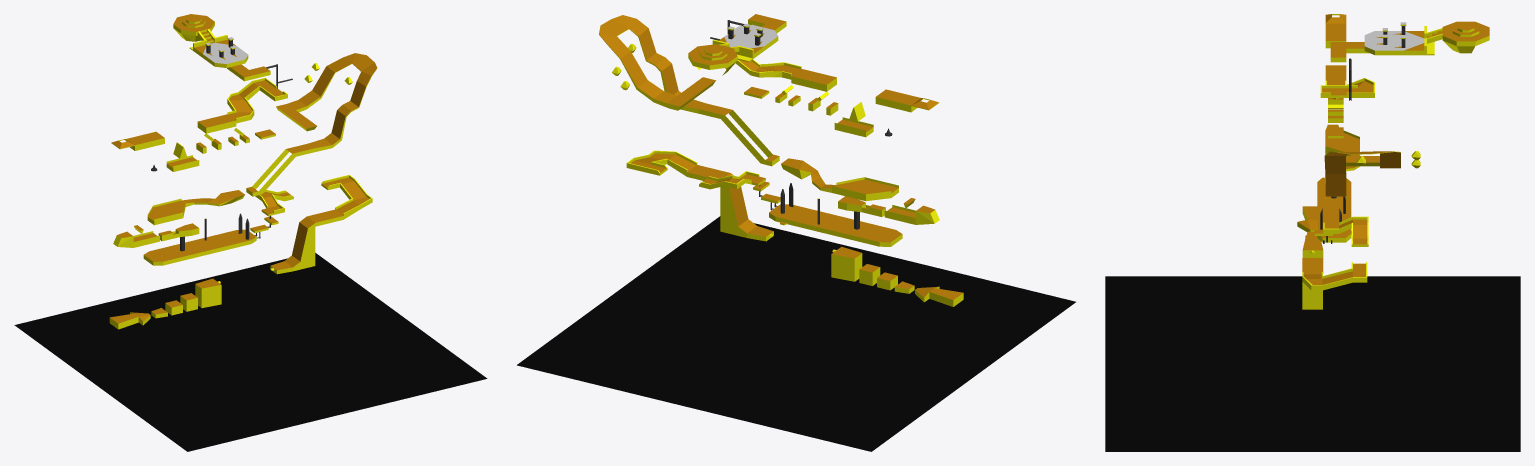
File: bits_segment7.0x16E18.collision.obj
3 renders of one model, left to right at view 1: azimuth 30°, elevation 25°; view 2: azimuth 150°, elevation 25°; view 3: azimuth 270°, elevation 25°, orthographic. The views are drawn at different scales.
Parts seen in each view (by area): view 1: bits_segment7_16E18_deathfloor, bits_segment7_16E18_climbable, bits_segment7_16E18_normal, bits_segment7_16E18_windy, bits_segment7_16E18_fence; view 2: bits_segment7_16E18_deathfloor, bits_segment7_16E18_climbable, bits_segment7_16E18_normal, bits_segment7_16E18_windy, bits_segment7_16E18_fence; view 3: bits_segment7_16E18_deathfloor, bits_segment7_16E18_climbable, bits_segment7_16E18_normal, bits_segment7_16E18_windy, bits_segment7_16E18_fence.
Boxes of the visible parts, box(x1,y1,x2,y2) form: bits_segment7_16E18_deathfloor: box(14, 253, 487, 451); bits_segment7_16E18_climbable: box(110, 14, 377, 323); bits_segment7_16E18_normal: box(109, 19, 376, 329); bits_segment7_16E18_windy: box(203, 37, 248, 63); bits_segment7_16E18_fence: box(151, 40, 292, 251); bits_segment7_16E18_deathfloor: box(517, 216, 1075, 451); bits_segment7_16E18_climbable: box(599, 14, 963, 299); bits_segment7_16E18_normal: box(599, 19, 963, 306); bits_segment7_16E18_windy: box(724, 23, 777, 48); bits_segment7_16E18_fence: box(710, 20, 892, 229); bits_segment7_16E18_deathfloor: box(1105, 276, 1520, 451); bits_segment7_16E18_climbable: box(1298, 14, 1489, 284); bits_segment7_16E18_normal: box(1297, 14, 1489, 309); bits_segment7_16E18_windy: box(1364, 22, 1424, 50); bits_segment7_16E18_fence: box(1320, 26, 1405, 243).
Size of the model in its own units: 16 by 14.5 by 16.
